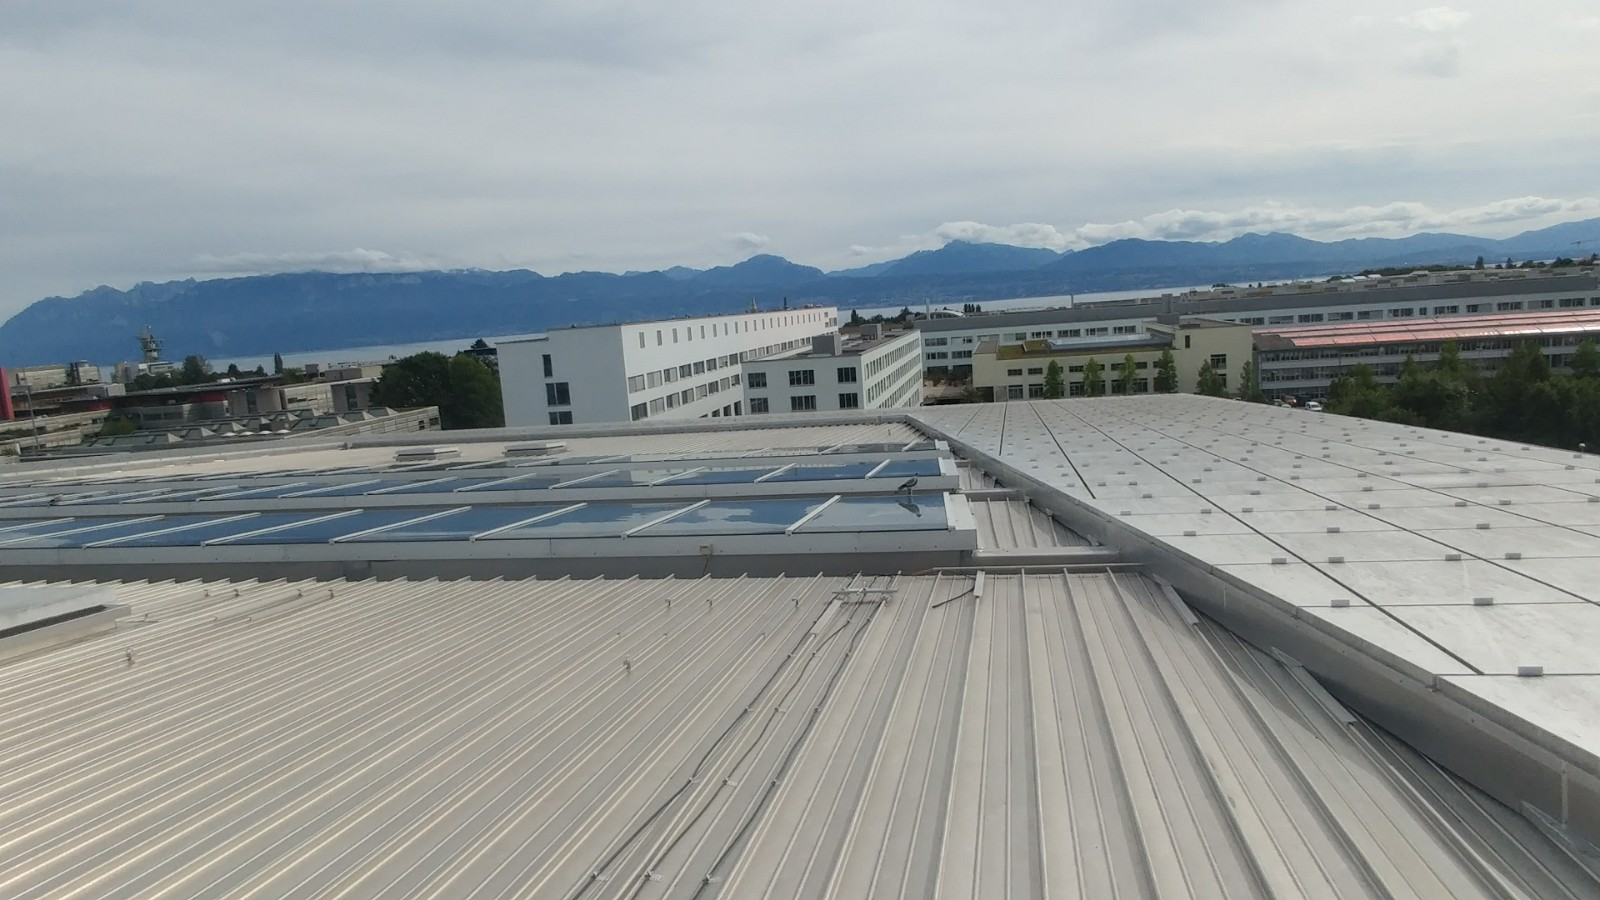Pigeon: (891, 473, 924, 499)
